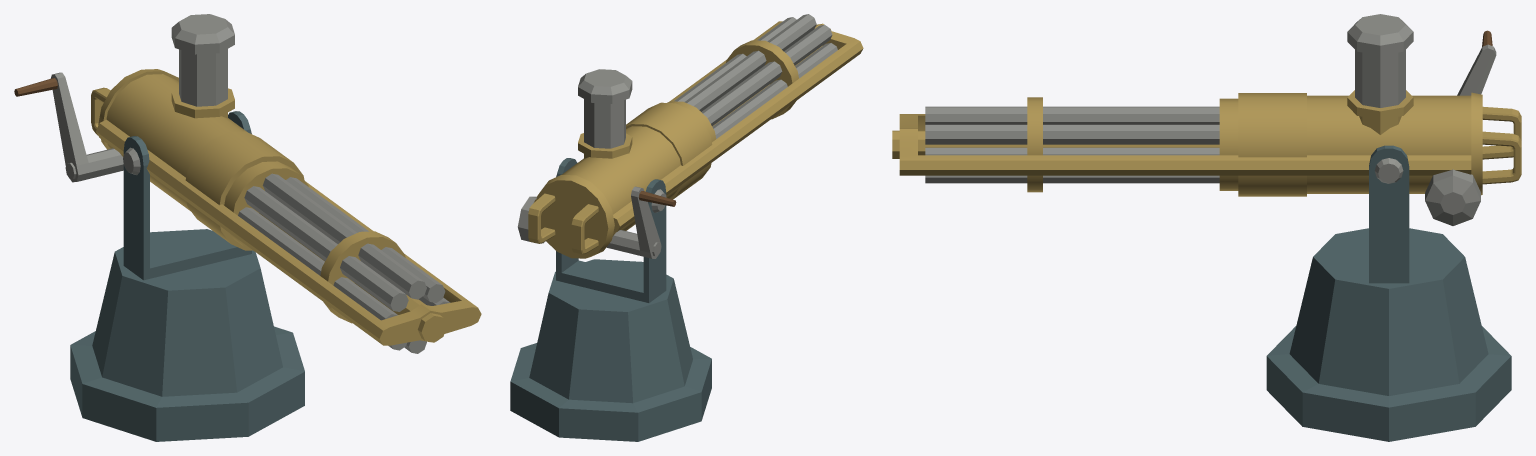
Rendered from Gatling Gun.fbx.
3 renders of one model, left to right at view 1: azimuth 30°, elevation 25°; view 2: azimuth 150°, elevation 25°; view 3: azimuth 270°, elevation 25°, orthographic. The views are drawn at different scales.
Visible parts, largest first — view 1: Gatling Platform, Gutling Body, Gutling Barrel, Gutling Arm; view 2: Gatling Platform, Gutling Body, Gutling Barrel, Gutling Arm; view 3: Gatling Platform, Gutling Body, Gutling Barrel, Gutling Arm.
Part boxes in pixels (left/top/right/bottom): Gatling Platform: left=70, top=111, right=304, bottom=441; Gutling Body: left=91, top=14, right=481, bottom=345; Gutling Barrel: left=238, top=173, right=450, bottom=353; Gutling Arm: left=14, top=72, right=123, bottom=182; Gatling Platform: left=510, top=158, right=711, bottom=441; Gutling Body: left=528, top=21, right=863, bottom=258; Gutling Barrel: left=674, top=14, right=837, bottom=138; Gutling Arm: left=517, top=186, right=676, bottom=258; Gatling Platform: left=1266, top=145, right=1511, bottom=441; Gutling Body: left=892, top=14, right=1521, bottom=196; Gutling Barrel: left=925, top=106, right=1219, bottom=183; Gutling Arm: left=1425, top=30, right=1496, bottom=225.
Size of the model in its own units: 118 by 184 by 281.
